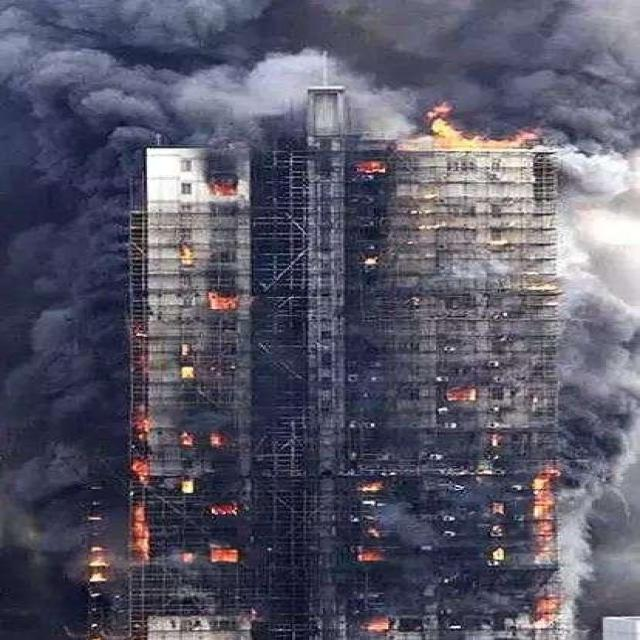fire: (117, 152, 286, 621), (347, 375, 570, 631), (333, 97, 558, 181), (80, 478, 124, 615)
smoke: (18, 2, 615, 156), (1, 130, 113, 556), (527, 74, 625, 534)
